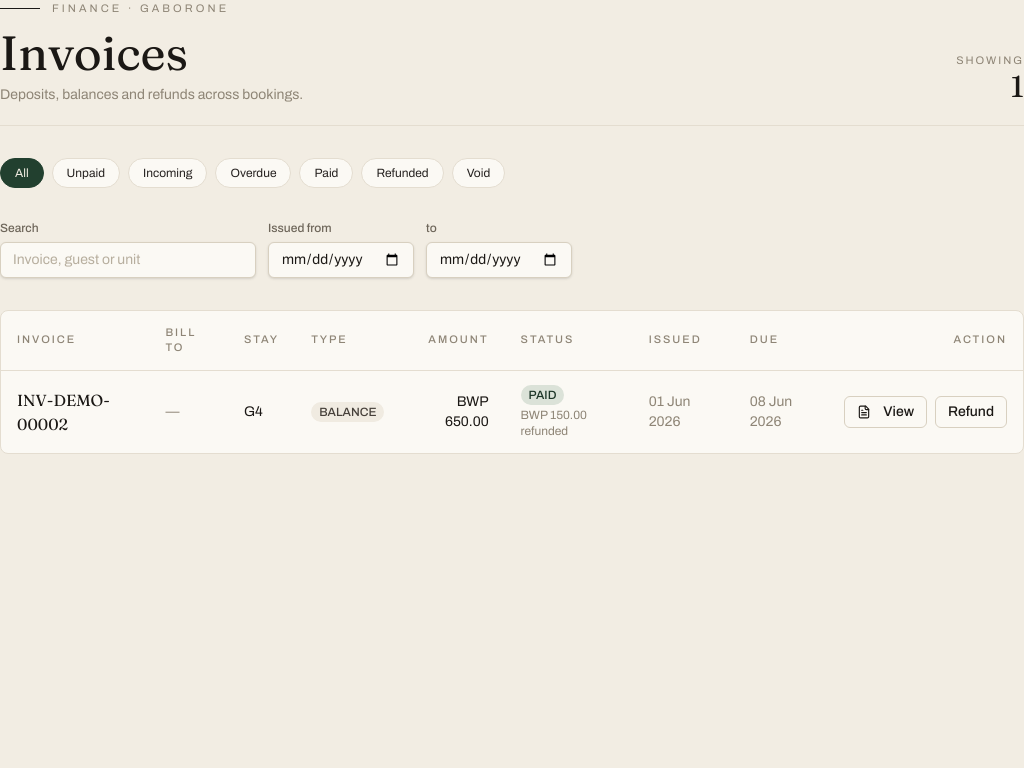
Test: InvoicesPage — refund dialog › refuses more than is still refundable (not the invoice total) — by one thebe
Click the button "Refund": [971, 412] box x1=935 y1=396 x2=1007 y2=428
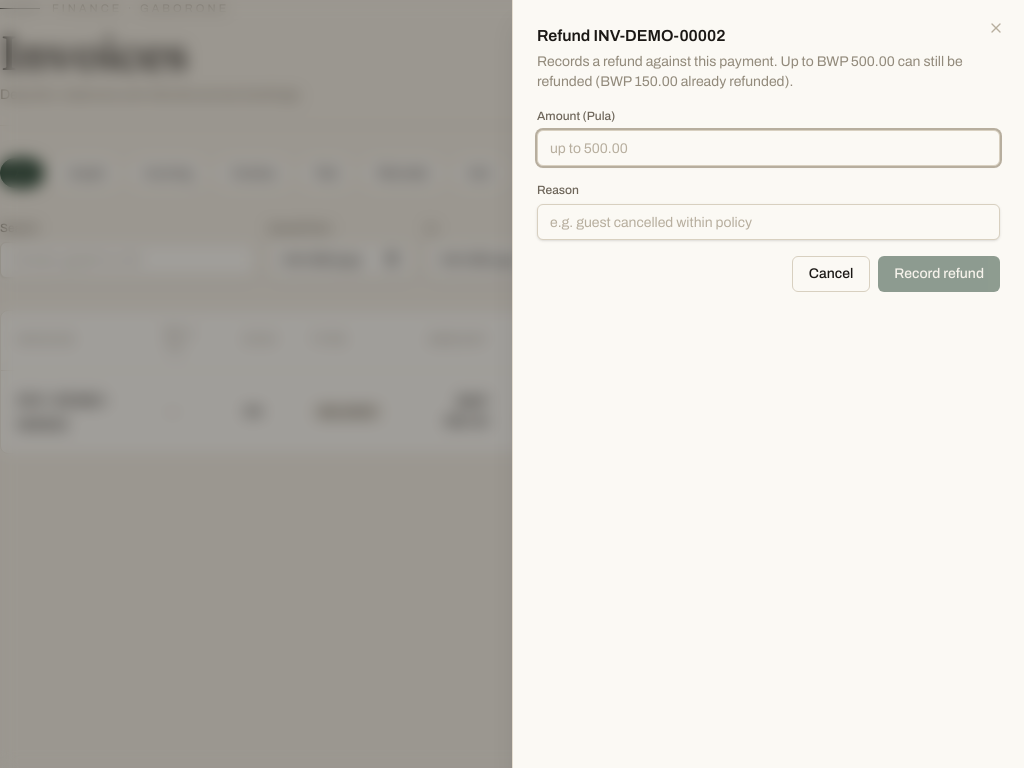
In the field labelled "Reason": [768, 222] box x1=537 y1=204 x2=1000 y2=240, type "x"
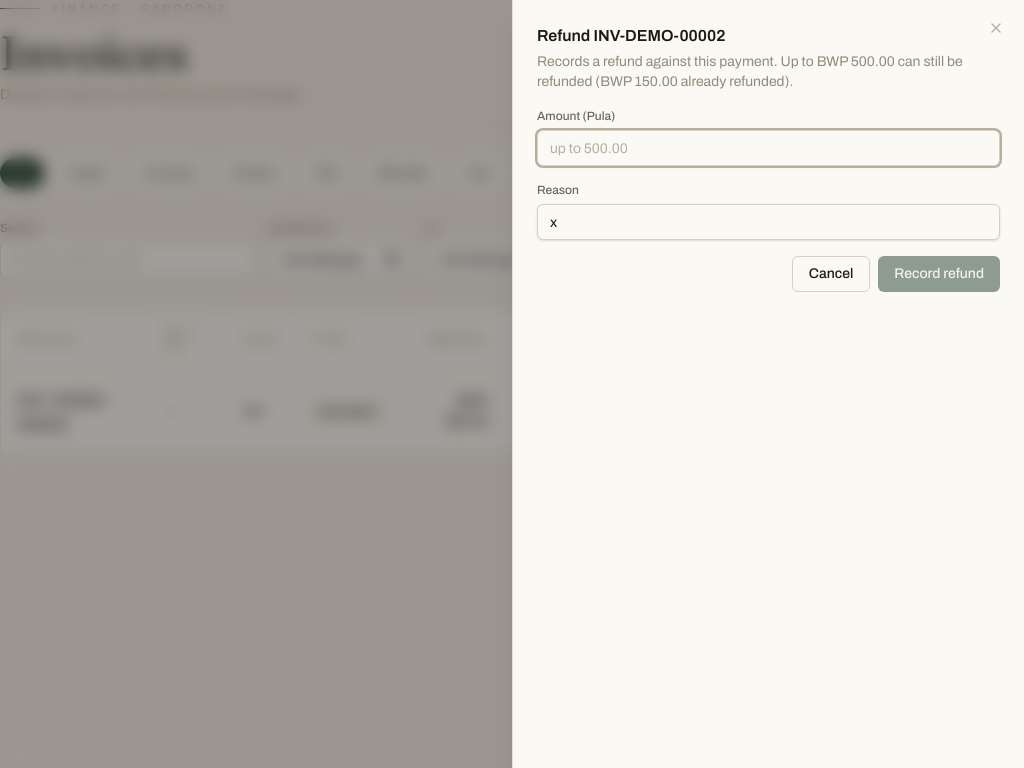
In the field labelled "Amount (Pula)": [768, 148] box x1=537 y1=130 x2=1000 y2=166, type "500.01"
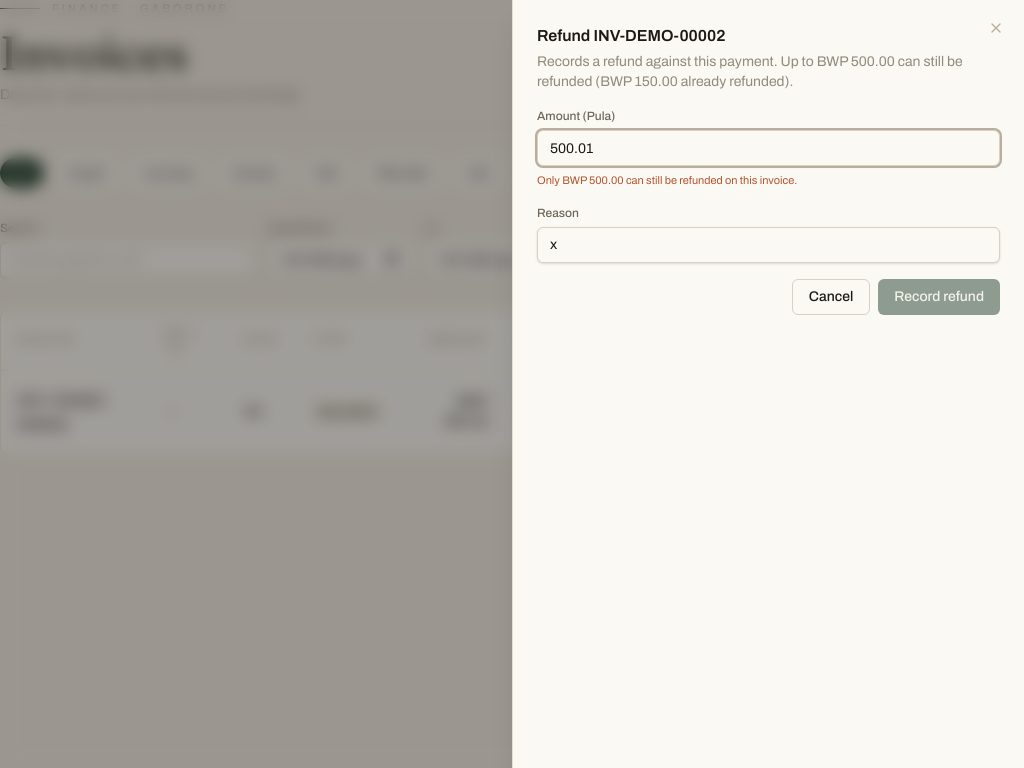
Now the button "Record refund" is disabled, box x1=878 y1=278 x2=1000 y2=314
Now the text "Only BWP 500.00 can still be refunded on this invoice." is shown, box x1=537 y1=174 x2=797 y2=186
Replace the text in the field labelled "Amount (Pula)" with "500.00": [768, 148] box x1=537 y1=130 x2=1000 y2=166
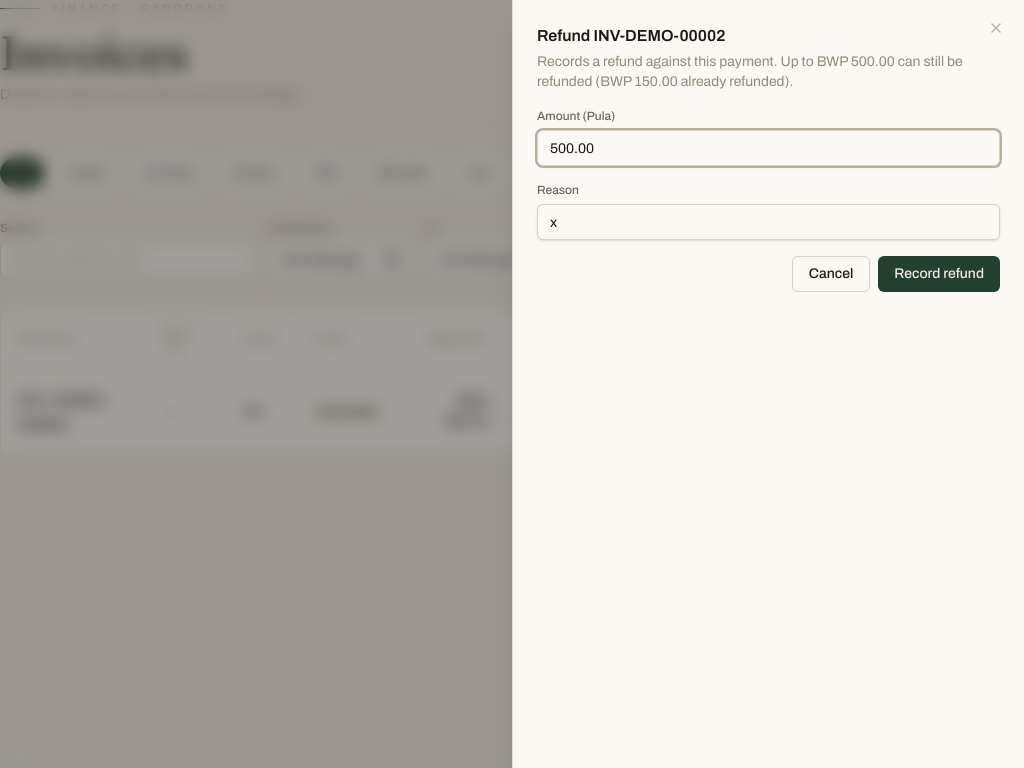
Now the button "Record refund" is enabled, box x1=878 y1=256 x2=1000 y2=292
